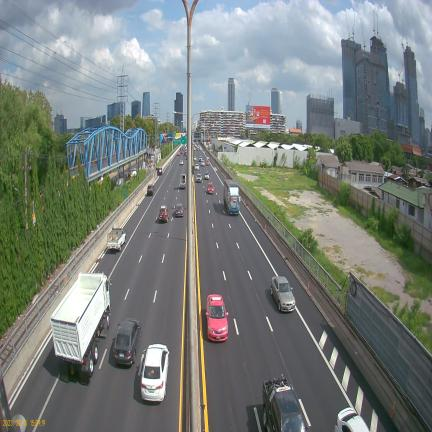car: (141, 344, 169, 401), (113, 319, 141, 365), (334, 407, 369, 432), (271, 276, 295, 311), (159, 205, 169, 222), (175, 203, 183, 217), (207, 182, 214, 194), (147, 184, 154, 195), (196, 173, 202, 183), (157, 166, 163, 175), (204, 172, 210, 180), (179, 160, 184, 165), (205, 160, 209, 166), (195, 164, 199, 170), (201, 161, 205, 166), (183, 151, 187, 156), (193, 156, 197, 161), (199, 156, 202, 162), (177, 152, 180, 156)
pickup: (262, 375, 308, 432)
taxi: (206, 294, 228, 341)
truck: (51, 273, 110, 384), (224, 179, 241, 214), (107, 228, 125, 251), (180, 174, 186, 188), (109, 280, 111, 285)
